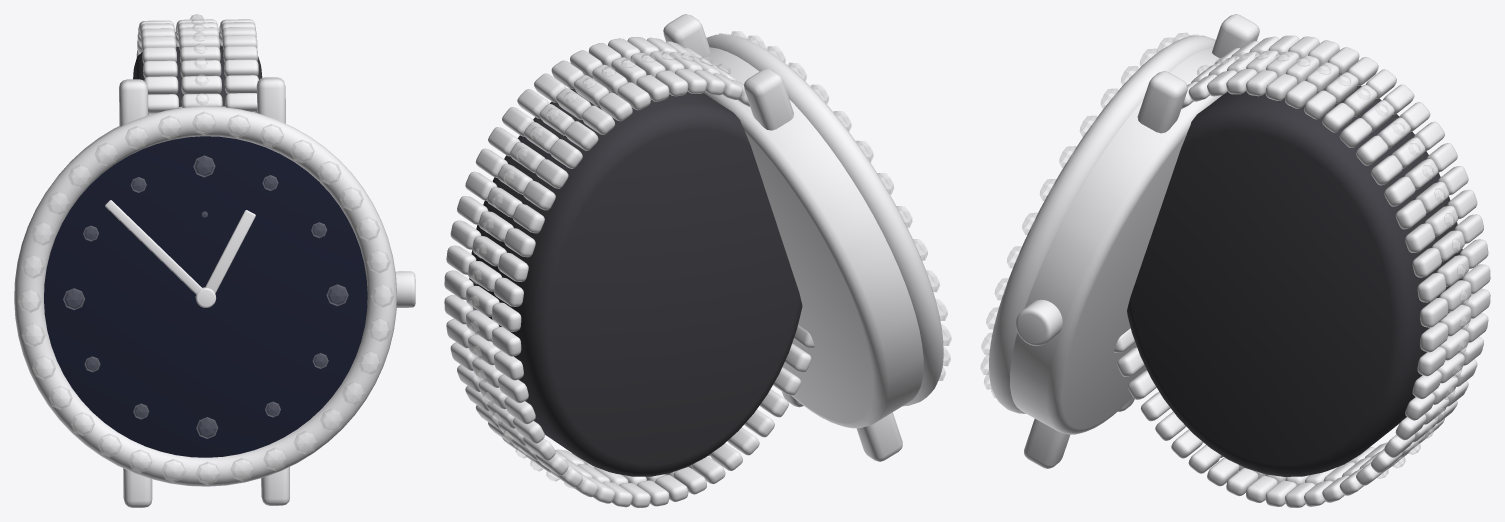
The model's file is reward-diamond-watch.glb.
3 views of the same model, side by side, from view 1: azimuth 30°, elevation 25°; view 2: azimuth 150°, elevation 25°; view 3: azimuth 270°, elevation 25° (orthographic). The views are drawn at different scales.
Visible parts, largest first — view 1: dial, bezel, minute, lug.001, lug, hour, lug.003, lug.002, cushion, mid.006, crown, mid.007 (+11 smaller); view 2: cushion, case, bezel, lug.001, lug.003, lug, mid.020, mid.021, mid.012, side.040, side.038, side.024 (+34 smaller); view 3: cushion, case, bezel, lug, crown, lug.002, lug.001, side.039, side.041, side.025, side.043, side.035 (+26 smaller).
Part boxes in pixels (x1,y1,x2,y2): dial: (44, 136, 367, 457); bezel: (14, 106, 396, 486); minute: (105, 200, 202, 294); lug.001: (119, 79, 148, 126); lug: (256, 77, 285, 123); hour: (205, 210, 255, 293); lug.003: (123, 468, 152, 507); lug.002: (261, 467, 289, 505); cushion: (133, 46, 262, 113); mid.006: (181, 75, 221, 94); crown: (395, 271, 415, 307); mid.007: (180, 60, 221, 77); cushion: (469, 78, 802, 476); case: (704, 47, 923, 428); bezel: (706, 34, 943, 406); lug.001: (744, 68, 793, 130); lug.003: (856, 412, 902, 461); lug: (663, 14, 710, 57); mid.020: (472, 236, 506, 266); mid.021: (468, 261, 502, 291); mid.012: (574, 75, 609, 106); side.040: (498, 252, 528, 281); side.038: (504, 228, 535, 257); side.024: (599, 92, 632, 121); cushion: (1127, 75, 1464, 476); case: (1010, 48, 1221, 434); bezel: (989, 35, 1215, 413); lug: (1137, 71, 1187, 133); crown: (1016, 299, 1062, 345); lug.002: (1024, 418, 1069, 468); lug.001: (1212, 14, 1259, 57); side.039: (1405, 223, 1435, 252); side.041: (1412, 248, 1441, 277); side.025: (1304, 90, 1336, 119); side.043: (1417, 273, 1446, 302); side.035: (1384, 176, 1415, 206).
Bounding box in the file's own units: 2.72 × 2.98 × 3.18.
